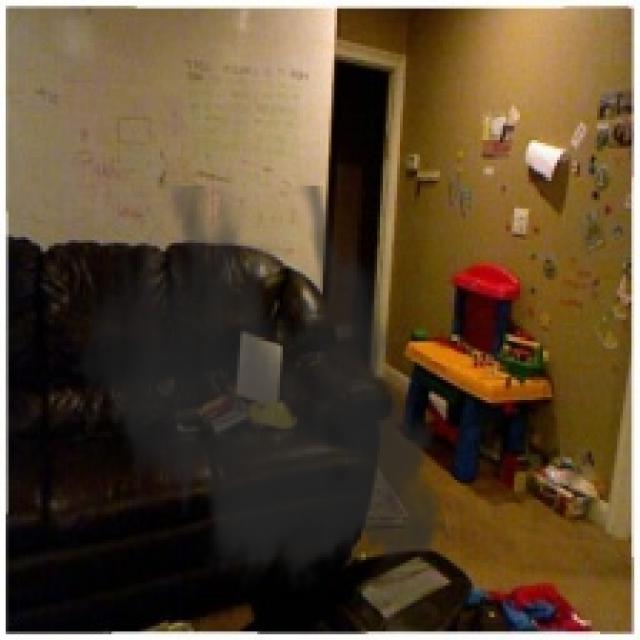smoke: (66, 186, 463, 597)
